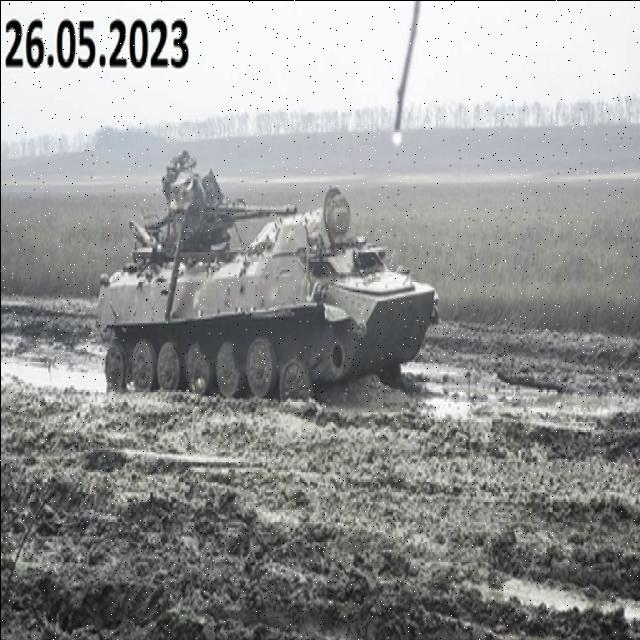APC-IFV: (91, 140, 435, 427)
